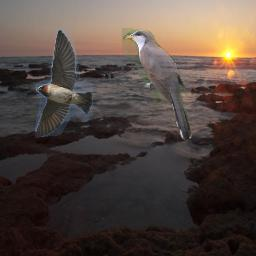Cuckoo: (122, 28, 194, 142)
Swallow: (35, 29, 93, 138)
